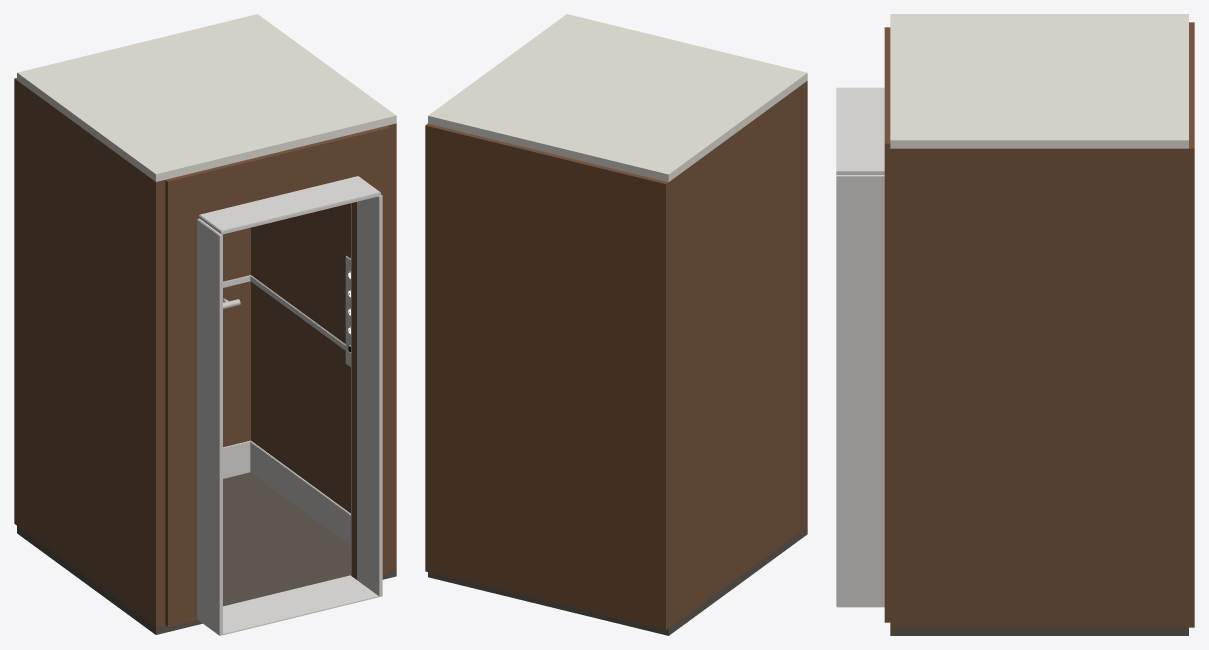
Rendered from AsansorKabin.fbx.
3 renders of one model, left to right at view 1: azimuth 30°, elevation 25°; view 2: azimuth 150°, elevation 25°; view 3: azimuth 270°, elevation 25°, orthographic. The views are drawn at different scales.
Visible parts, largest first — view 1: Kabin; view 2: Kabin; view 3: Kabin.
Part boxes in pixels (x1,y1,x2,y2): Kabin: [14, 14, 396, 635]; Kabin: [425, 14, 807, 635]; Kabin: [836, 14, 1194, 635].
Bounding box in the file's own units: 1.3 × 2.38 × 1.56.
